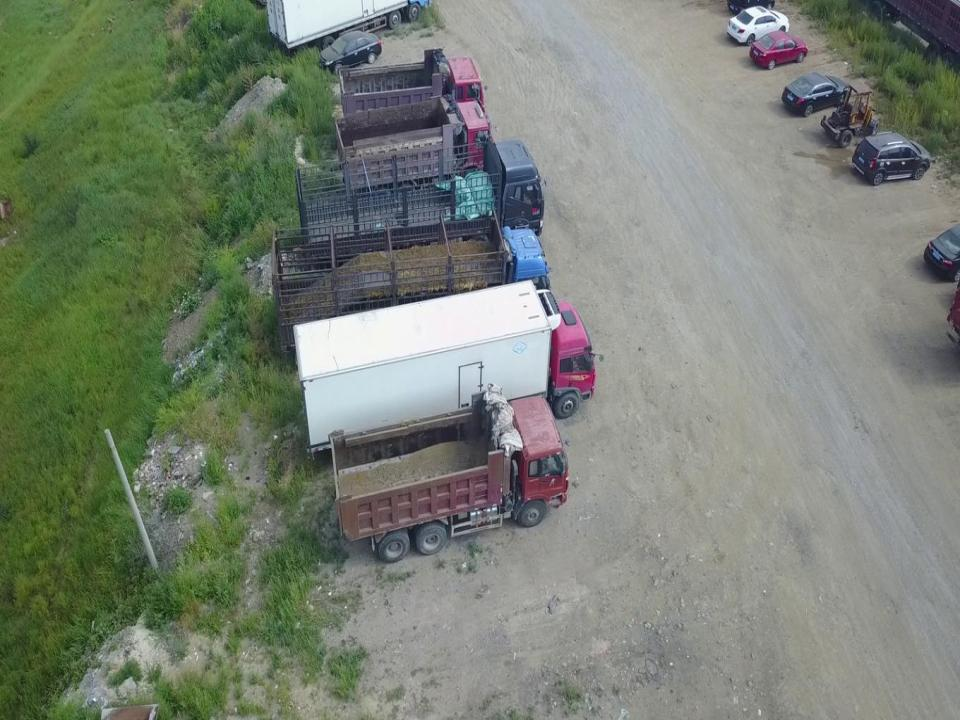car: (852, 131, 932, 185), (781, 72, 852, 118), (318, 30, 381, 74), (749, 29, 808, 70), (727, 6, 789, 45)
truck: (292, 279, 604, 474), (272, 208, 552, 373), (329, 385, 568, 562), (293, 138, 548, 268), (334, 94, 498, 199), (338, 47, 485, 143), (265, 0, 432, 49)
